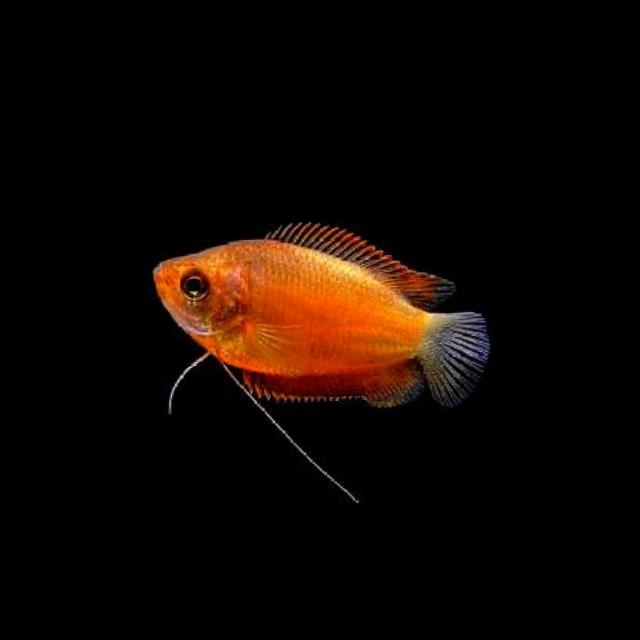Gourami: (148, 210, 501, 424)
